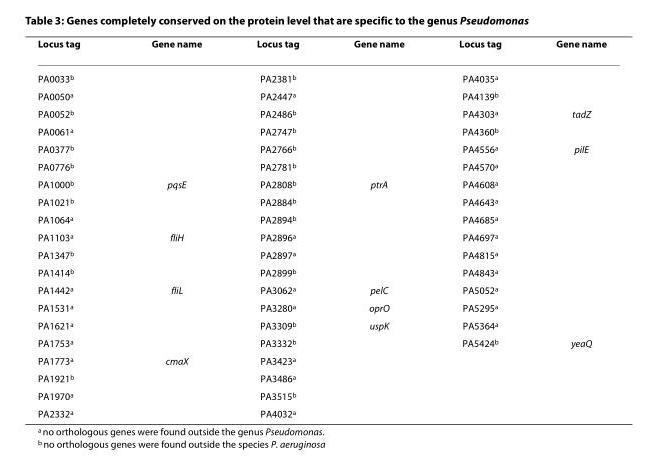table: (36, 36, 605, 419)
table column: (115, 36, 228, 419), (325, 36, 430, 419), (430, 36, 528, 419), (228, 36, 325, 419), (36, 36, 115, 419), (528, 36, 605, 419)
table column header: (36, 36, 605, 60)
table row: (36, 60, 605, 86), (36, 36, 605, 60), (36, 86, 605, 104), (36, 104, 605, 122), (36, 139, 605, 157), (36, 174, 605, 192), (36, 192, 605, 210), (36, 227, 605, 245), (36, 245, 605, 263), (36, 280, 605, 298), (36, 298, 605, 316), (36, 333, 605, 351), (36, 368, 605, 386), (36, 386, 605, 404), (36, 122, 605, 139), (36, 157, 605, 174), (36, 210, 605, 227), (36, 263, 605, 280), (36, 316, 605, 333), (36, 351, 605, 368), (36, 404, 605, 419)
